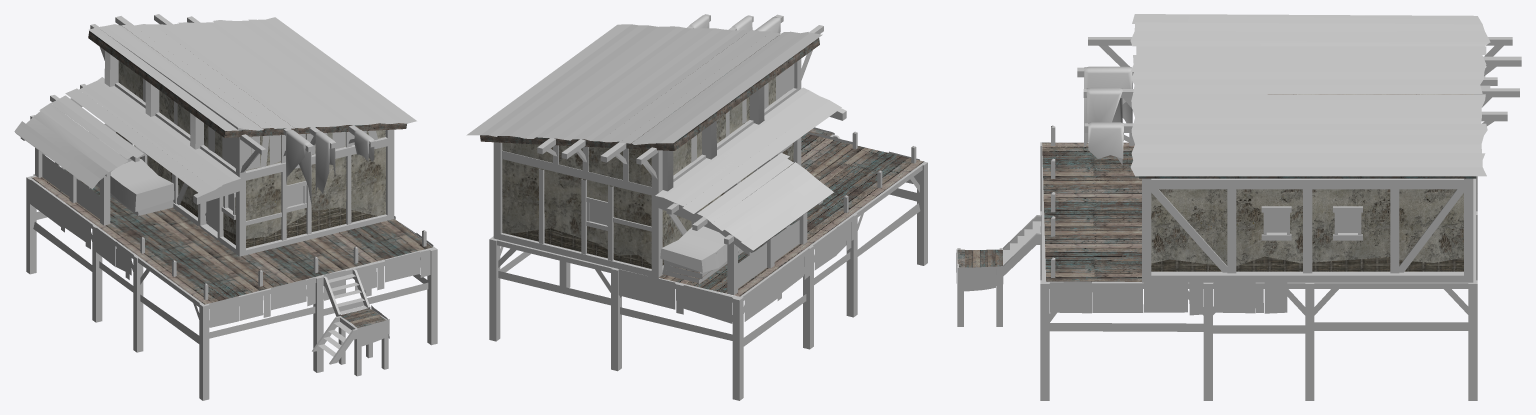
Rendered from House2_LOD2.fbx.
3 renders of one model, left to right at view 1: azimuth 30°, elevation 25°; view 2: azimuth 150°, elevation 25°; view 3: azimuth 270°, elevation 25°, orthographic. The views are drawn at different scales.
Parts seen in each view (by area): view 1: Base, Stairs; view 2: Base; view 3: Base, Stairs.
Part boxes in pixels (box(x1,y1,x2,y2)): Base: box(14, 14, 437, 400); Stairs: box(312, 269, 389, 376); Base: box(466, 14, 927, 400); Base: box(1040, 14, 1521, 400); Stairs: box(956, 215, 1041, 326).
Size of the model in its own units: 12.31 by 10.09 by 18.36.
